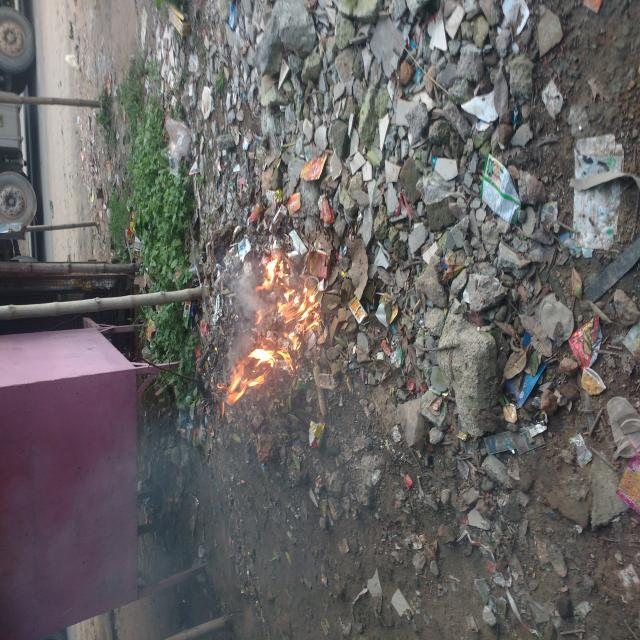Fire: (172, 270, 361, 451)
